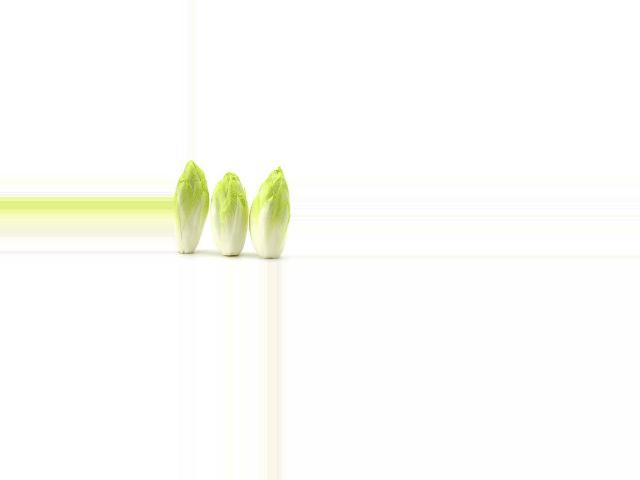lettuce: (250, 165, 290, 262)
